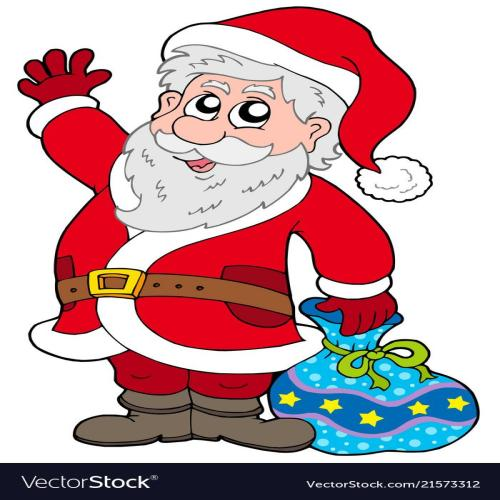Santa: (14, 4, 438, 456)
